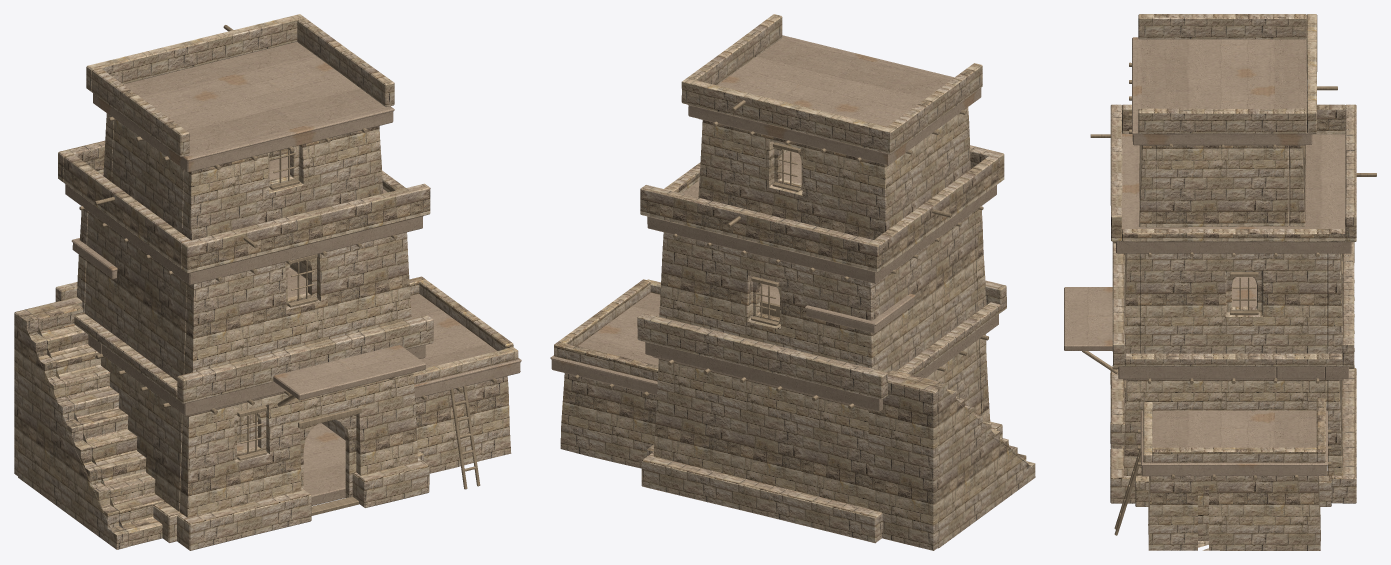
3 renders of one model, left to right at view 1: azimuth 30°, elevation 25°; view 2: azimuth 150°, elevation 25°; view 3: azimuth 270°, elevation 25°, orthographic. The views are drawn at different scales.
Visible parts, largest first — view 1: house; view 2: house; view 3: house.
Part boxes in pixels (left/top/right/bottom): house: left=14, top=14, right=521, bottom=550; house: left=550, top=14, right=1035, bottom=550; house: left=1064, top=14, right=1376, bottom=550.
Bounding box in the file's own units: 11.95 × 11.64 × 8.46.
Materials: 3 (3 with a texture image).
